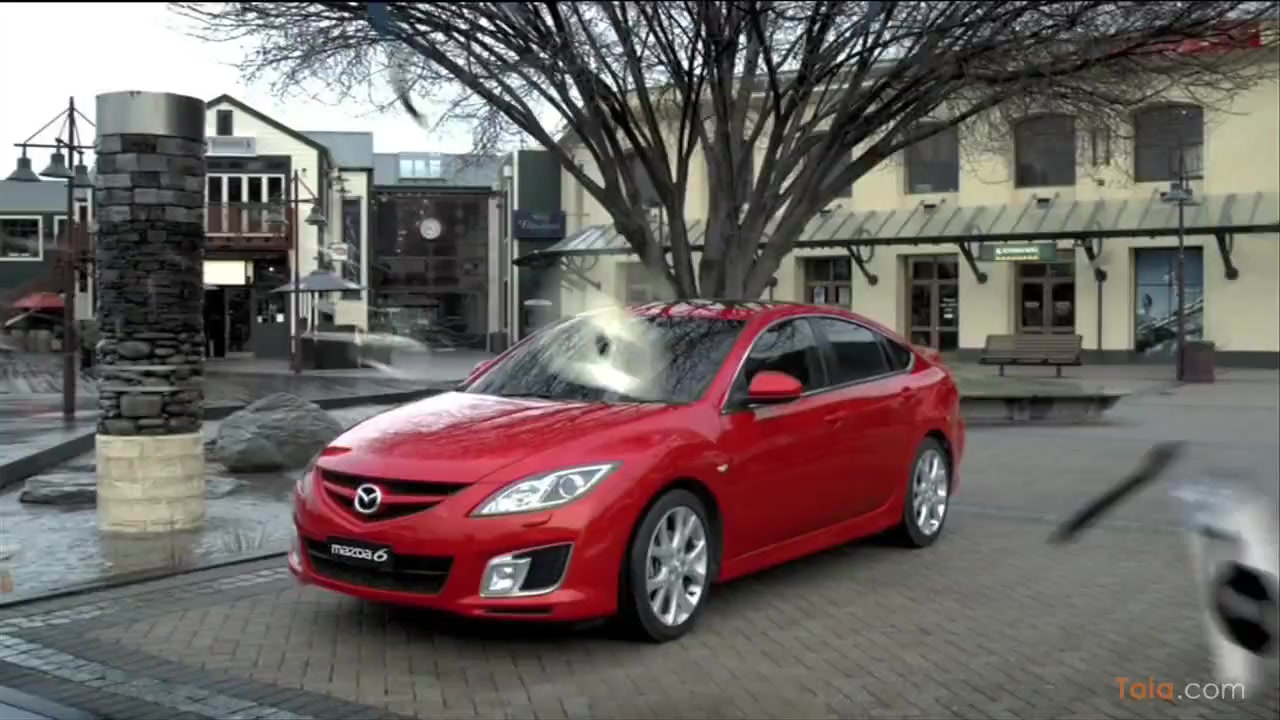car: (285, 301, 969, 645)
